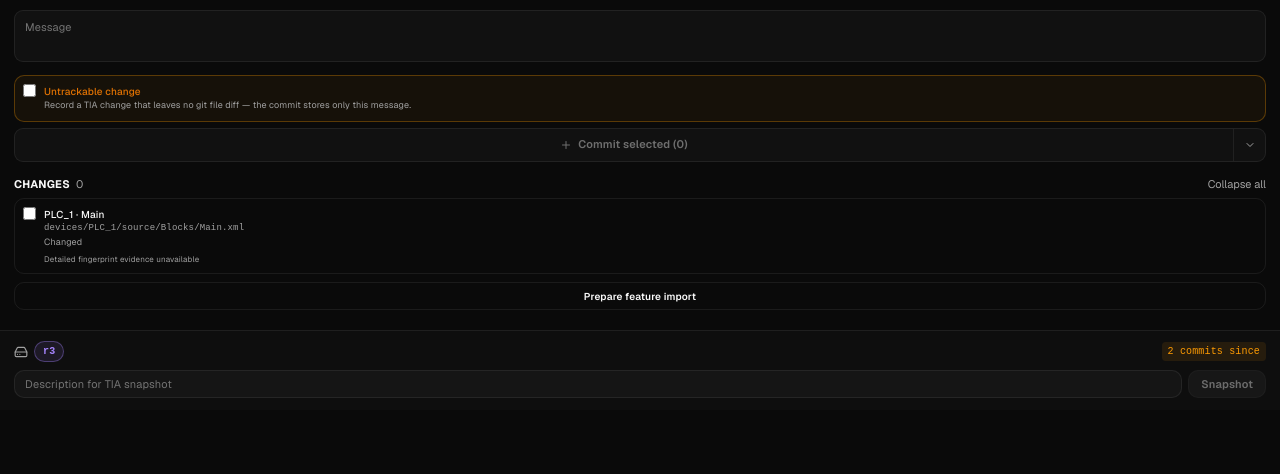
Test: VersionControlChanges › explains that selected TIA sources are committed to the active feature worktree
Click the 2nd checkbox at (30, 214), box [23,207,36,220]
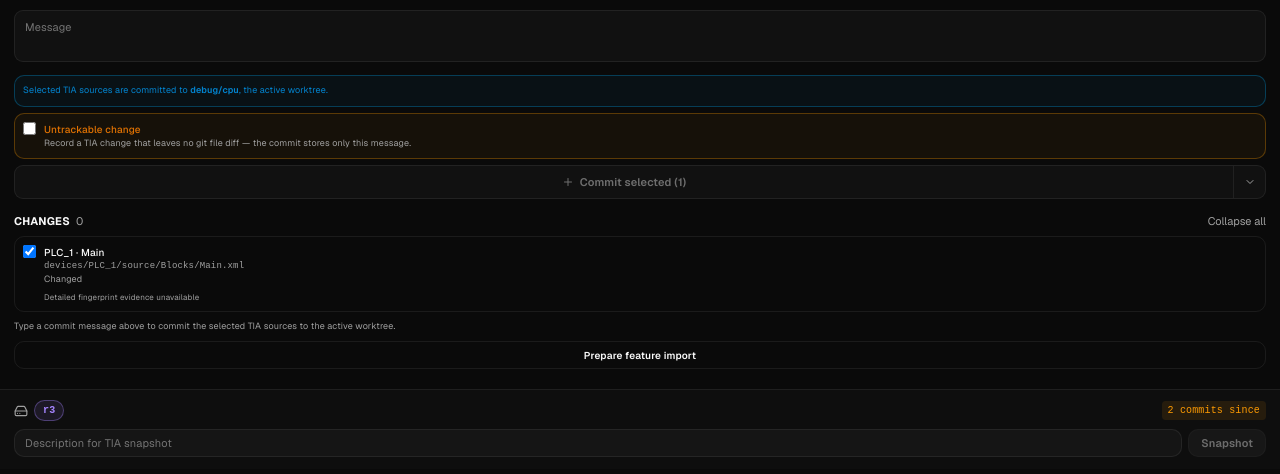
Result: the element with test id "vc-tia-target-notice" shows "committed to debug/cpu" at [14,75,1266,106]
Result: the element with test id "vc-tia-target-notice" shows "debug/cpu" at [190,84,239,96]
